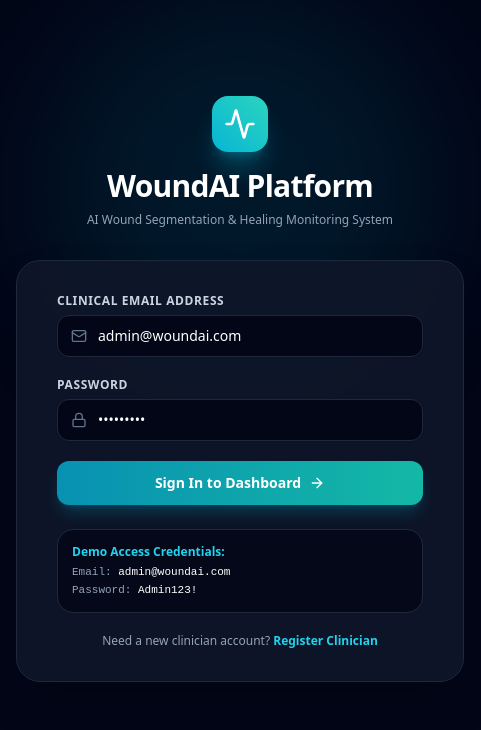
Test case: LoginPage › displays error message on failed login
The image size is (481, 730).
Click the button "Sign In to Dashboard". click: [240, 483]
box: [57,461,423,505]
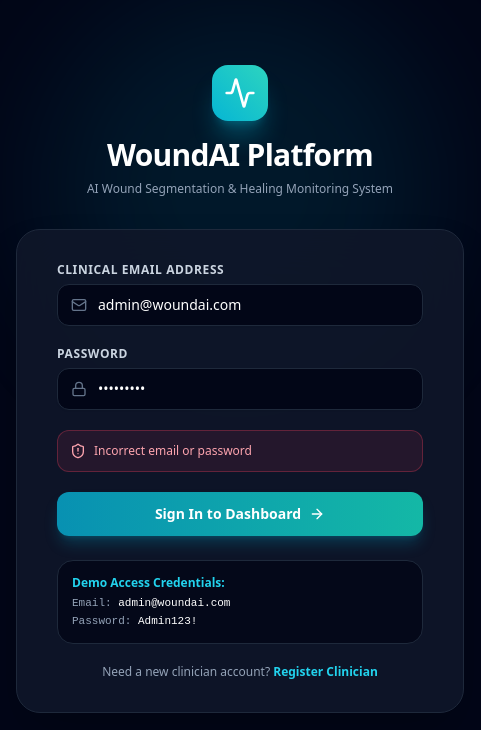
Expected: the text "Incorrect email or password" is shown, [94,443,252,459]
